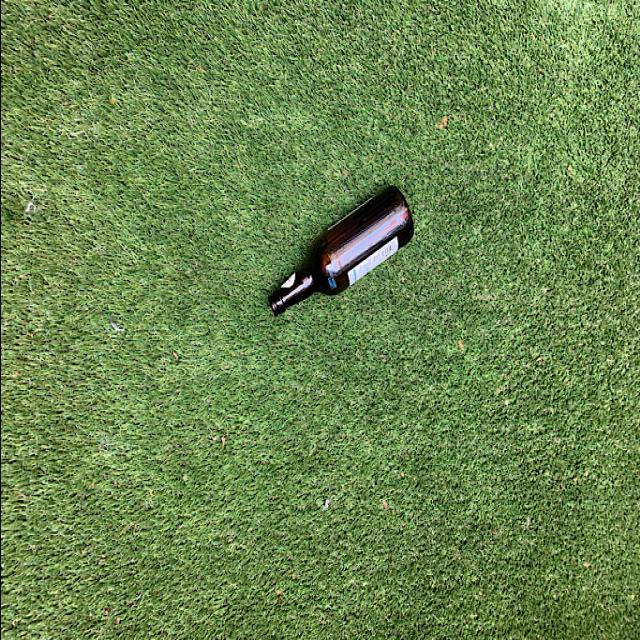PET: (251, 148, 460, 366)
